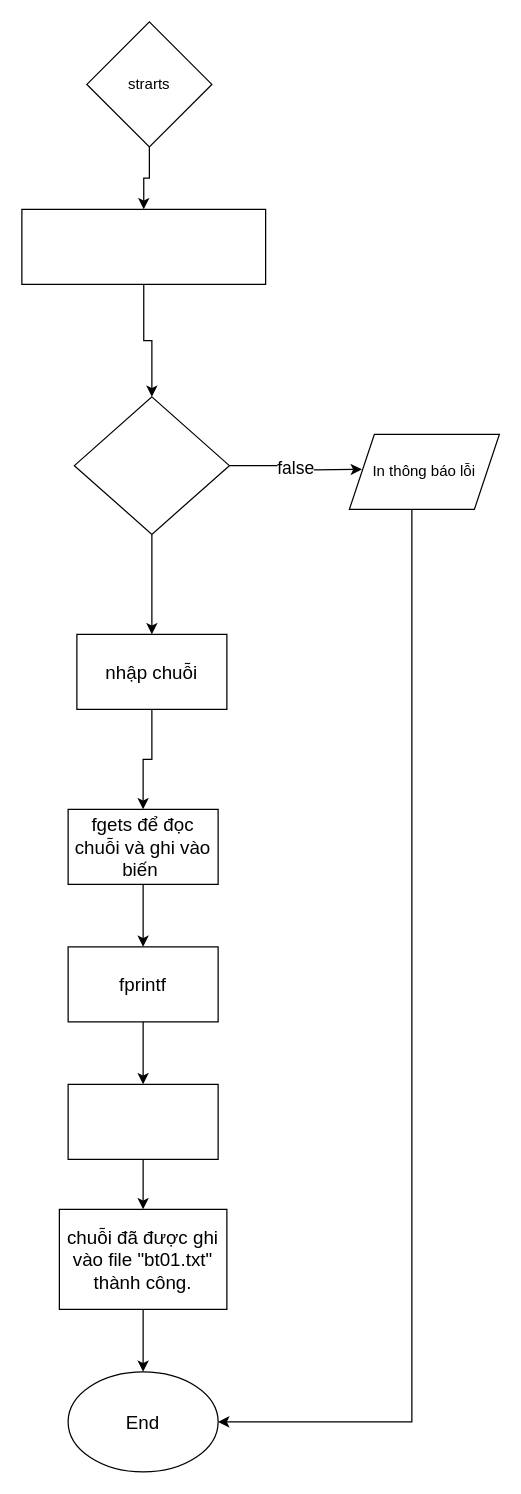
This 521x1494 diagram has some shape labels left out. The shapes that lost their labels are listed below. From the top down, each one's box as (x1, y1, x2, y2) in pixels, then its label:
(21, 208, 266, 284): Sử dụng hàm fopen để mở file "bt01.txt" trong chế độ ghi ("w").
(73, 396, 229, 534): không có lỗi mở file
(67, 1083, 218, 1159): fclose
